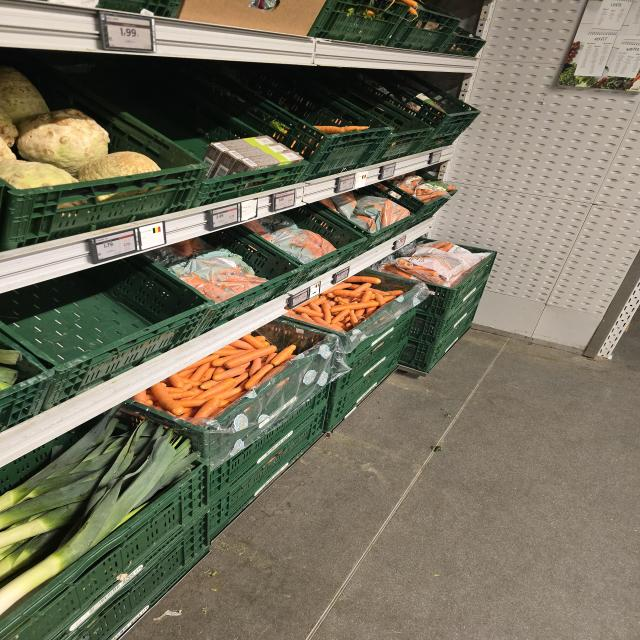Carrot: (223, 345, 277, 369), (149, 382, 186, 416), (242, 362, 275, 391), (179, 396, 233, 408), (330, 300, 380, 312), (212, 366, 249, 381), (333, 290, 375, 300), (345, 276, 381, 284)
